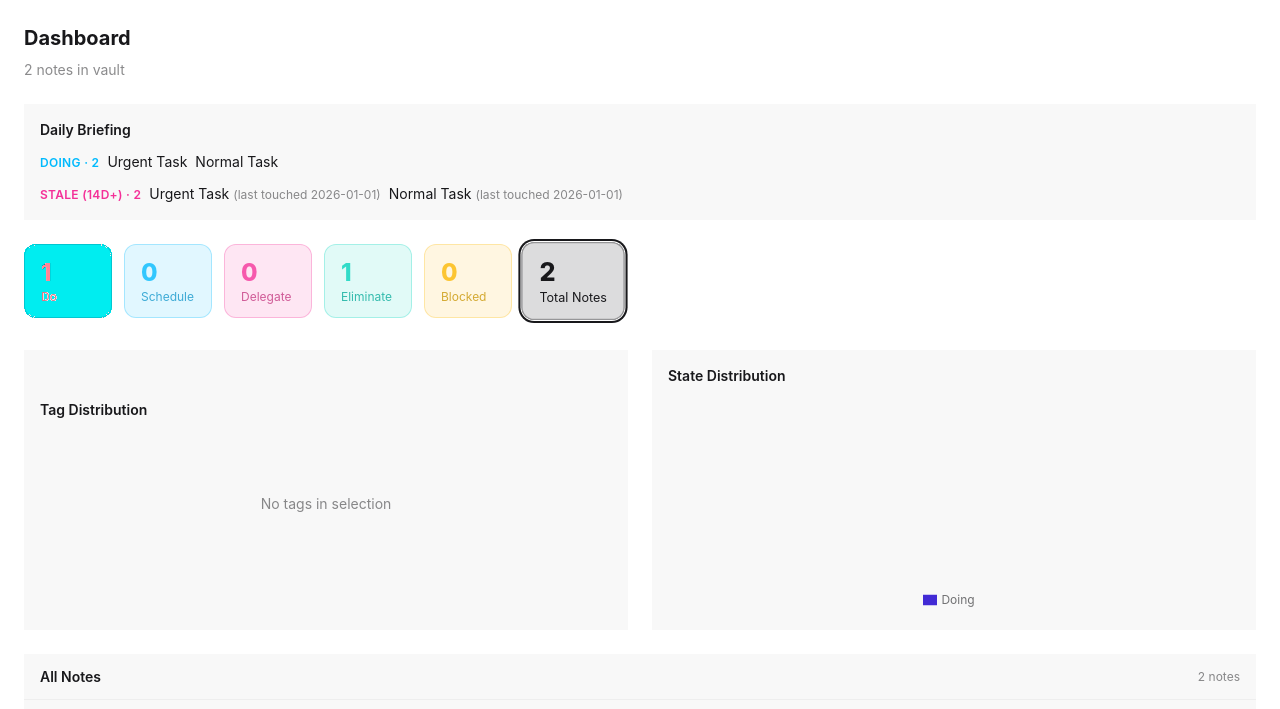
Test: DashboardView — chip filtering › shows 'No notes in this category.' when filter has zero matches
The image size is (1280, 709).
Click the button "0 Schedule".
click(168, 281)  # box x1=124 y1=244 x2=212 y2=318
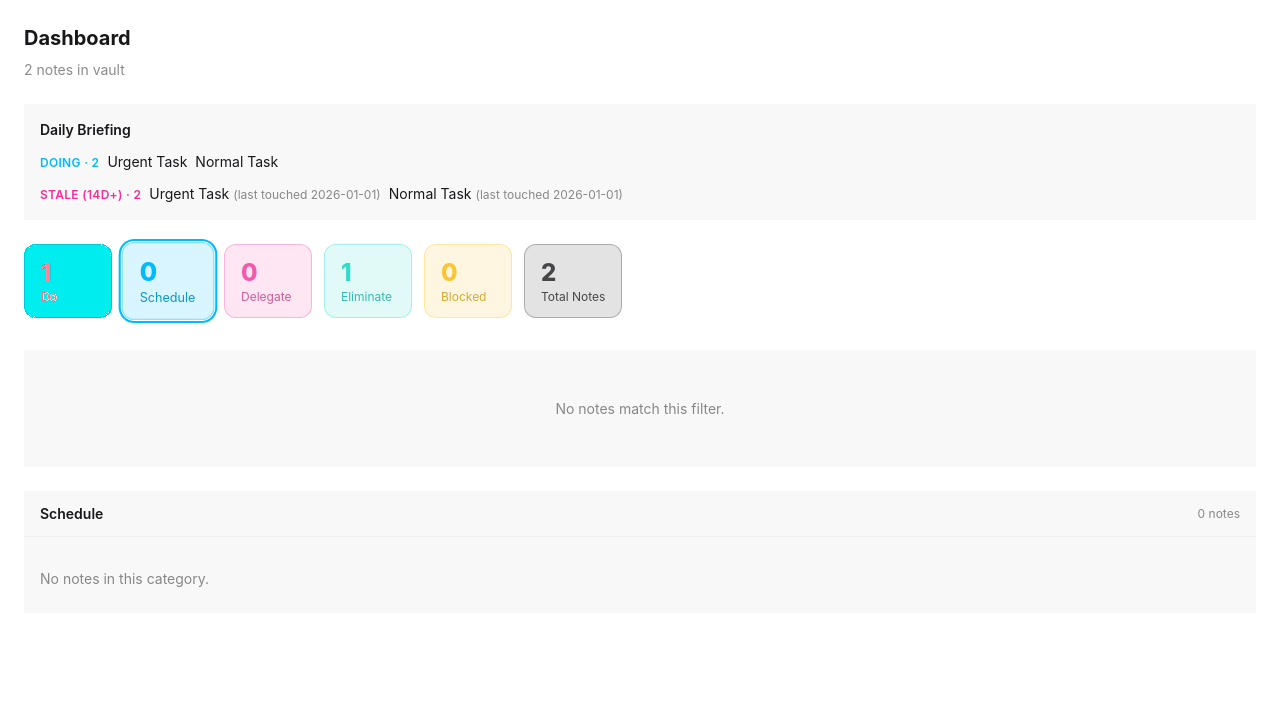
Check: the text "No notes in this category." is shown, box x1=40 y1=570 x2=209 y2=587
